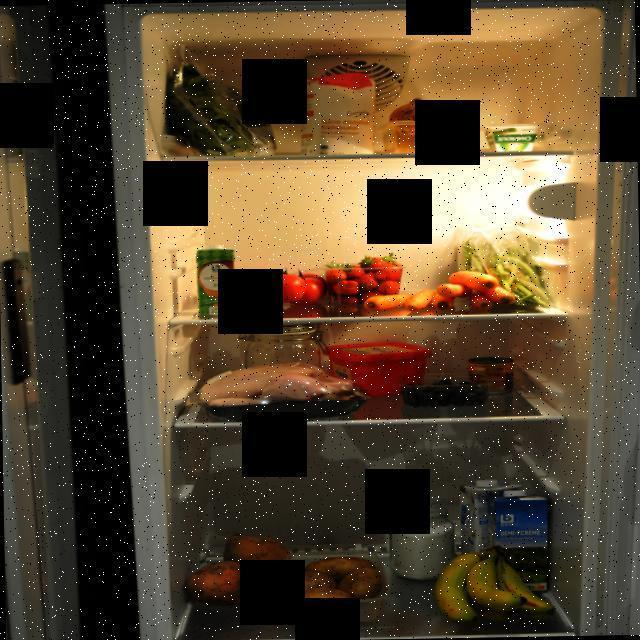banana: (434, 546, 548, 624)
blueberries: (398, 376, 490, 408)
butter: (322, 338, 436, 399)
carrot: (432, 271, 518, 316), (362, 292, 432, 316)
chicken: (193, 357, 370, 420)
corn: (464, 356, 518, 396)
flour: (238, 316, 334, 390)
goat_cheese: (476, 121, 544, 151)
green_beans: (448, 222, 555, 312)
heavy_cream: (195, 243, 238, 320)
milk: (490, 488, 554, 598), (456, 478, 524, 574)
onion: (388, 95, 467, 154)
potato: (287, 552, 391, 624)
spinach: (158, 40, 282, 163)
strawberries: (323, 252, 400, 304)
sugar: (382, 493, 462, 589), (298, 70, 380, 160)
sweet_potato: (176, 532, 290, 615)
tomato: (233, 264, 331, 314)
